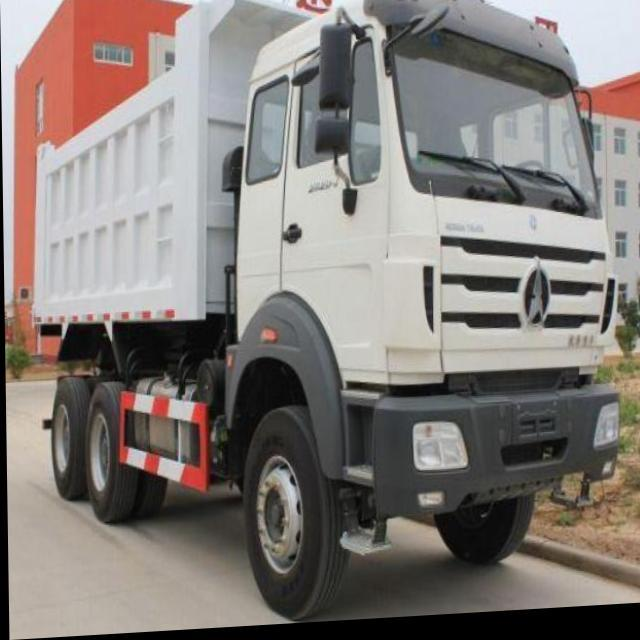uncovered: (40, 0, 535, 611)
